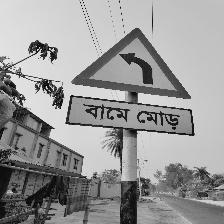Left-Turn: (68, 28, 194, 136)
